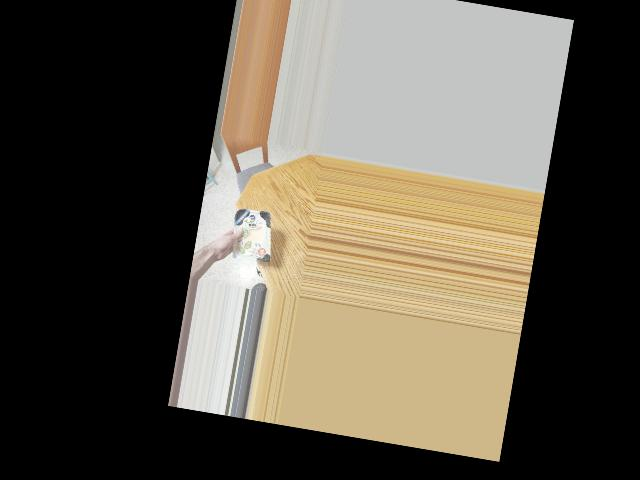cheese: (224, 199, 278, 269)
